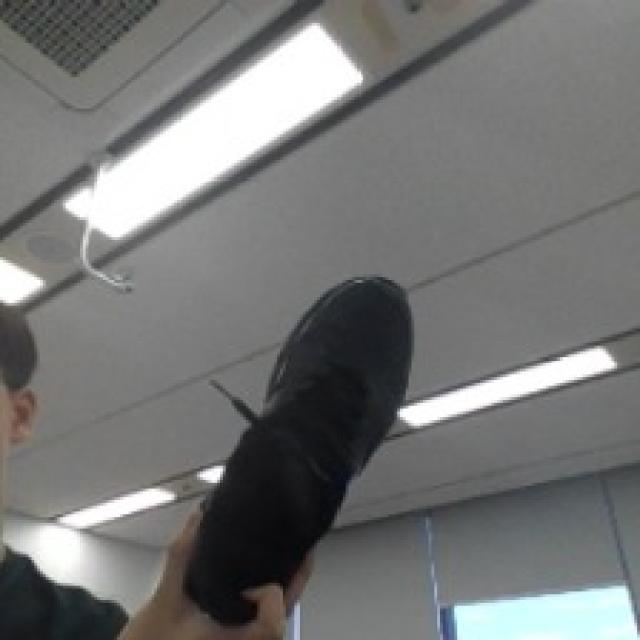shoe: (178, 272, 414, 632)
